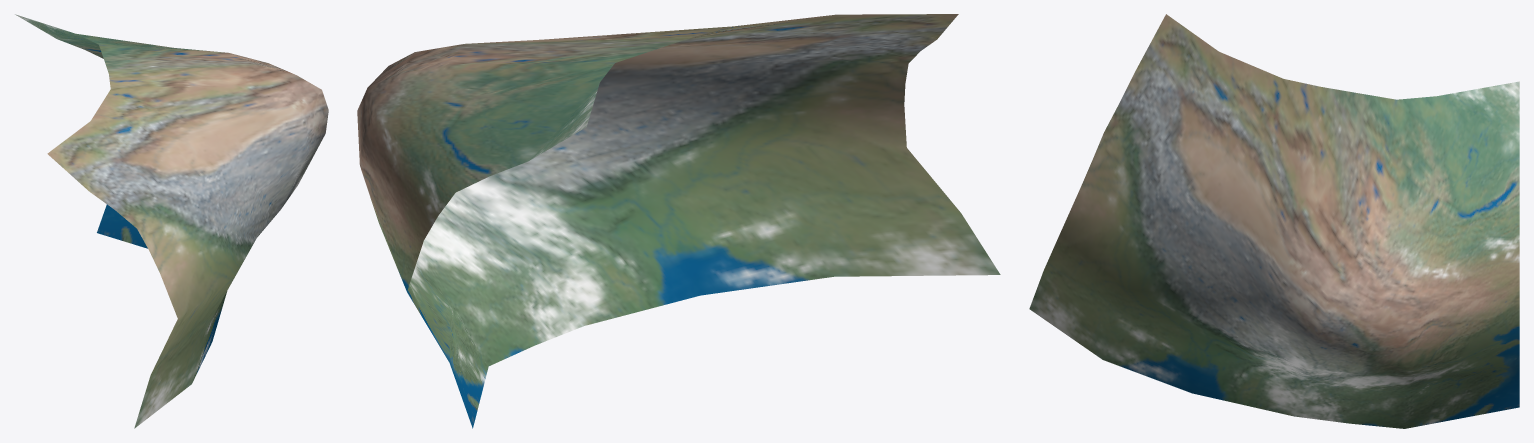
The model's file is EarthWarp.fbx.
3 views of the same model, side by side, from view 1: azimuth 30°, elevation 25°; view 2: azimuth 150°, elevation 25°; view 3: azimuth 270°, elevation 25° (orthographic). The views are drawn at different scales.
Visible parts, largest first — view 1: Sphere.001; view 2: Sphere.001; view 3: Sphere.001.
Boxes of the visible parts, x1=… form: Sphere.001: x1=15, y1=14, x2=328, y2=428; Sphere.001: x1=357, y1=14, x2=1000, y2=428; Sphere.001: x1=1029, y1=14, x2=1519, y2=428.
Bounding box in the file's own units: 215 × 141 × 225.
